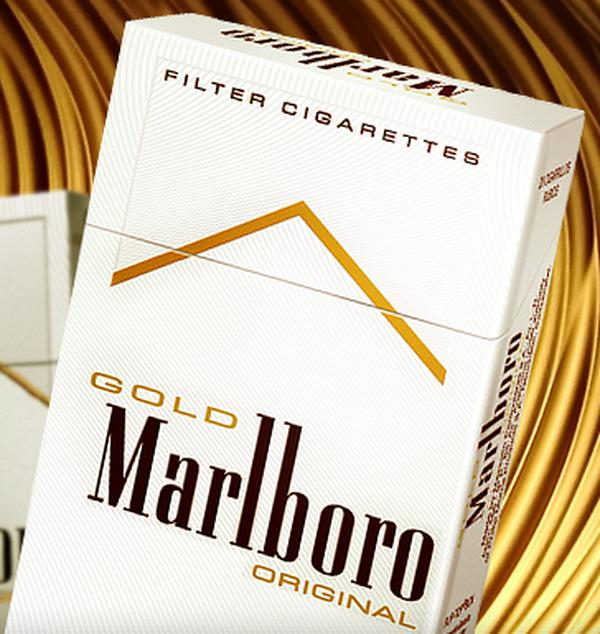marlboro_gold: (89, 93, 488, 634)
